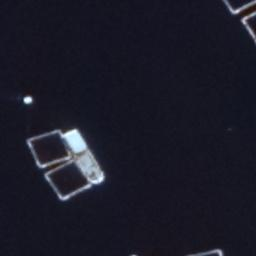square_solid: (40, 156, 99, 205), (21, 128, 77, 173)
